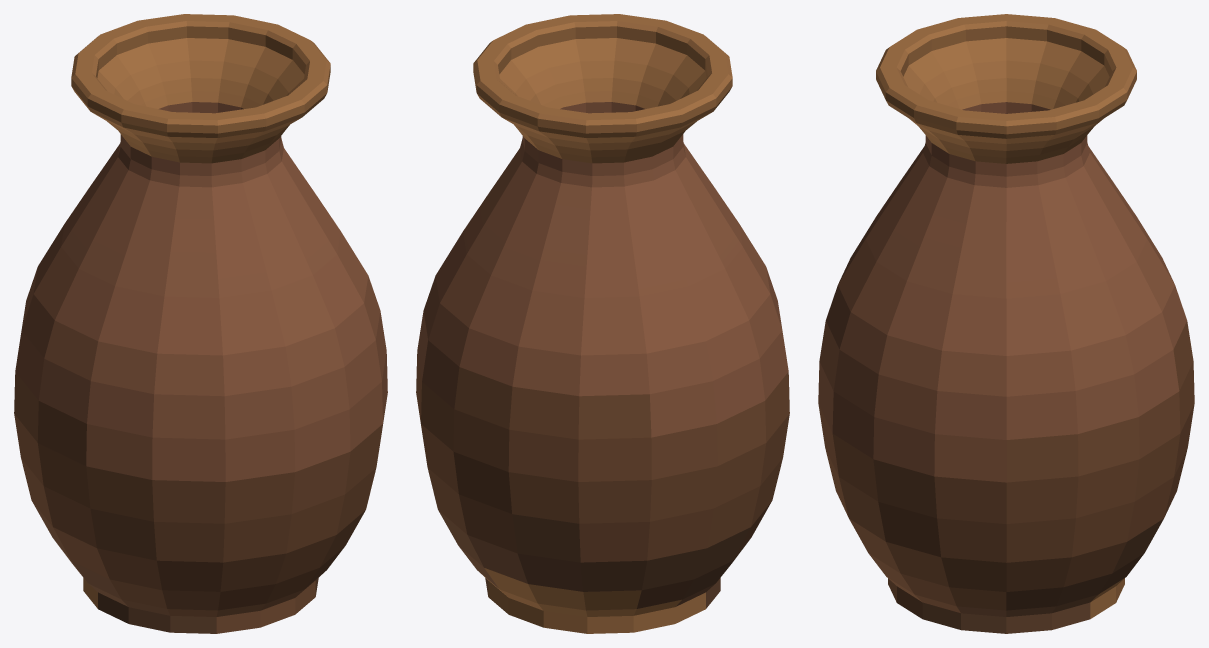
File: fixed_vase_004.glb
The picture shows the model from 3 angles, left to right: view 1: azimuth 30°, elevation 25°; view 2: azimuth 150°, elevation 25°; view 3: azimuth 270°, elevation 25°; orthographic projection.
Parts seen in each view (by area): view 1: Vase.004; view 2: Vase.004; view 3: Vase.004.
Boxes of the visible parts, x1,y1,x2,y2 form: Vase.004: (14, 14, 387, 633); Vase.004: (416, 14, 789, 633); Vase.004: (818, 14, 1194, 633).
Size of the model in its own units: 0.1652 by 0.25 by 0.1652.
